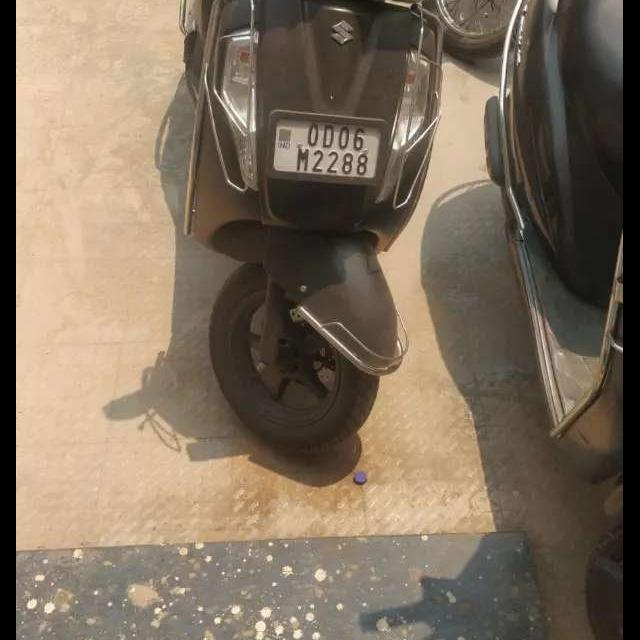Indian_Number_Plate: (269, 113, 385, 180)
